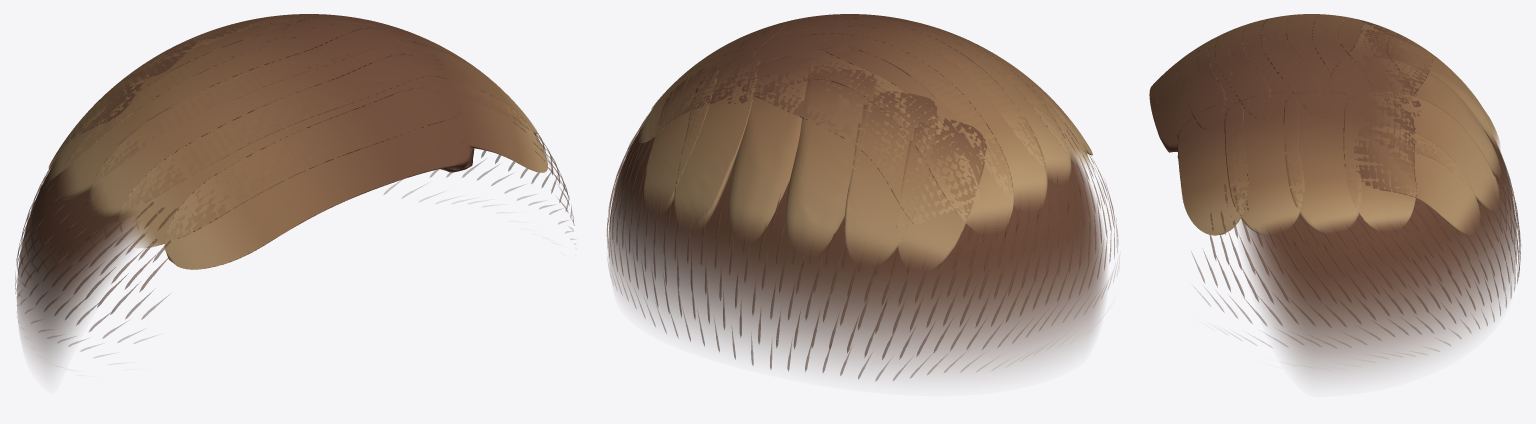
Rendered from Masculine-taper-cap259-hair-ombre.glb.
The picture shows the model from 3 angles, left to right: view 1: azimuth 30°, elevation 25°; view 2: azimuth 150°, elevation 25°; view 3: azimuth 270°, elevation 25°; orthographic projection. The views are drawn at different scales.
Visible parts, largest first — view 1: 226 hair / Hair258 / sculpted side sweep 1, 226 hair / Hair258 / sculpted side sweep 0, 226 hair / Hair258 / sculpted side sweep 2, 226 hair / Hair258 / smooth side fade, 226 hair / Hair259 / directional fade marks214; view 2: 226 hair / Hair258 / smooth side fade, 226 hair / Hair258 / sculpted side sweep 0, 226 hair / Hair258 / sculpted side sweep 1, 226 hair / Hair258 / sculpted side sweep 2, 226 hair / Hair259 / directional fade marks214; view 3: 226 hair / Hair258 / smooth side fade, 226 hair / Hair258 / sculpted side sweep 1, 226 hair / Hair258 / sculpted side sweep 0, 226 hair / Hair258 / sculpted side sweep 2, 226 hair / Hair259 / directional fade marks214.
Part boxes in pixels (<box>): 226 hair / Hair258 / sculpted side sweep 1: <box>48,14,547,269</box>; 226 hair / Hair258 / sculpted side sweep 0: <box>48,14,536,247</box>; 226 hair / Hair258 / sculpted side sweep 2: <box>89,18,499,217</box>; 226 hair / Hair258 / smooth side fade: <box>16,135,553,370</box>; 226 hair / Hair259 / directional fade marks214: <box>15,113,574,357</box>; 226 hair / Hair258 / smooth side fade: <box>608,124,1106,375</box>; 226 hair / Hair258 / sculpted side sweep 0: <box>674,14,1089,264</box>; 226 hair / Hair258 / sculpted side sweep 1: <box>639,18,1092,268</box>; 226 hair / Hair258 / sculpted side sweep 2: <box>644,14,1071,253</box>; 226 hair / Hair259 / directional fade marks214: <box>607,116,1119,381</box>; 226 hair / Hair258 / smooth side fade: <box>1239,129,1516,378</box>; 226 hair / Hair258 / sculpted side sweep 1: <box>1149,14,1500,235</box>; 226 hair / Hair258 / sculpted side sweep 0: <box>1177,14,1499,234</box>; 226 hair / Hair258 / sculpted side sweep 2: <box>1215,14,1499,235</box>; 226 hair / Hair259 / directional fade marks214: <box>1192,136,1521,354</box>.
Size of the model in its own units: 0.9743 by 0.584 by 0.7277.
